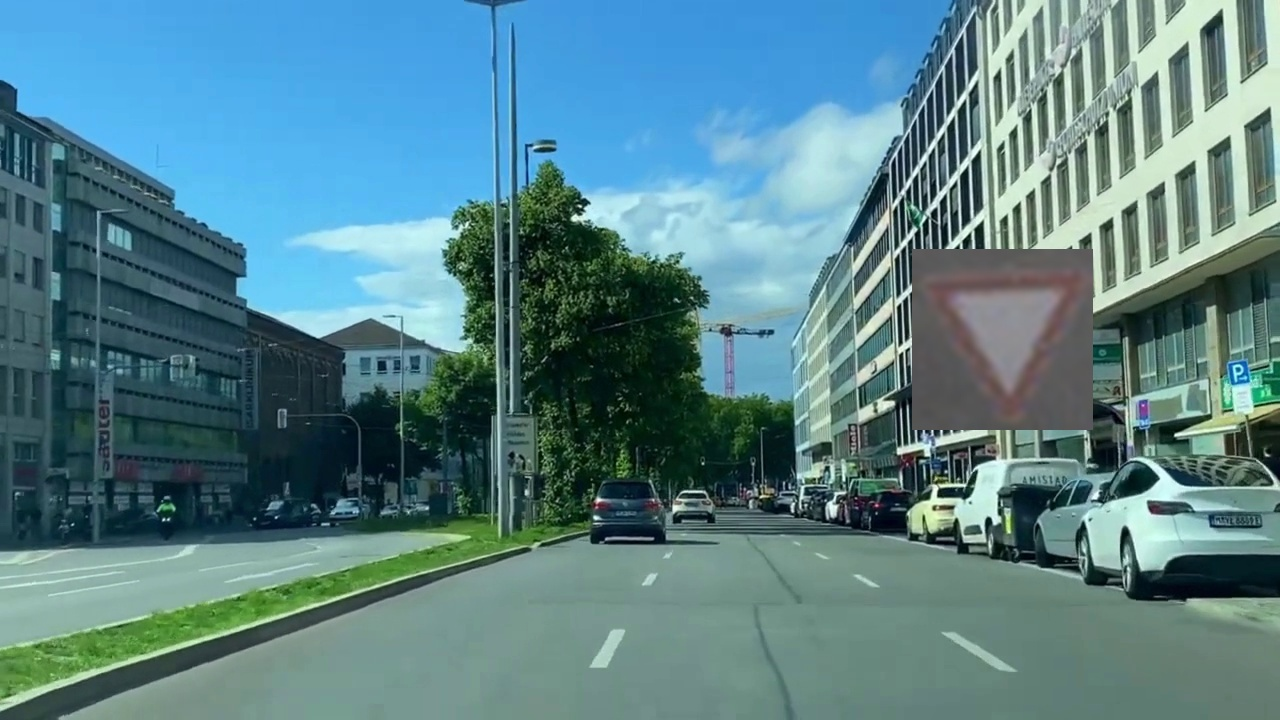Yield: (912, 249, 1093, 430)
